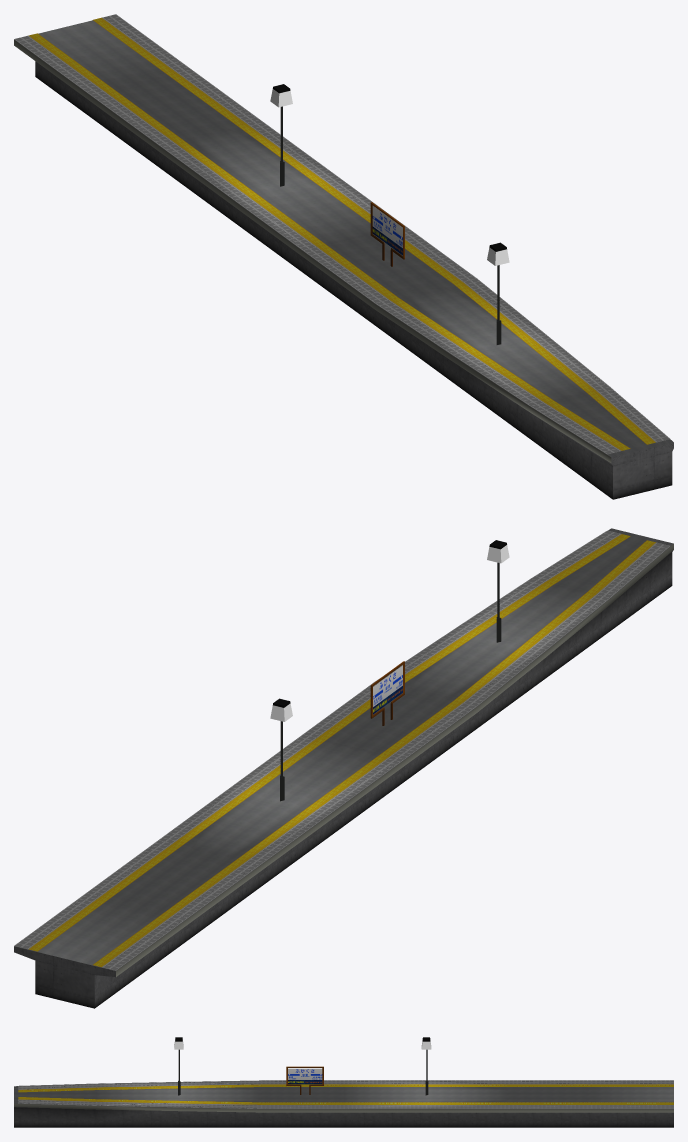
File: FUKAKUSA_HOME00.glb
The picture shows the model from 3 angles, top to bottom: view 1: azimuth 30°, elevation 25°; view 2: azimuth 150°, elevation 25°; view 3: azimuth 270°, elevation 25°; orthographic projection. The views are drawn at different scales.
Visible parts, largest first — view 1: W_Home_8, home24_bone4, bome24_bone6; view 2: W_Home_8, home24_bone4, bome24_bone6, home24_bone3; view 3: W_Home_8, home24_bone4, home24_bone3, bome24_bone6.
Boxes of the visible parts, box(x1,y1,x2,y2) form: W_Home_8: box(14, 14, 673, 499); home24_bone4: box(370, 202, 404, 266); bome24_bone6: box(487, 242, 509, 344); W_Home_8: box(14, 528, 673, 1008); home24_bone4: box(370, 661, 404, 725); bome24_bone6: box(487, 540, 509, 642); home24_bone3: box(270, 698, 292, 801); W_Home_8: box(14, 1080, 673, 1127); home24_bone4: box(286, 1066, 323, 1094); home24_bone3: box(421, 1037, 431, 1095); bome24_bone6: box(174, 1037, 183, 1095).
Size of the model in its own units: 10.2 by 13.43 by 100.
14 materials, 12 textured.
